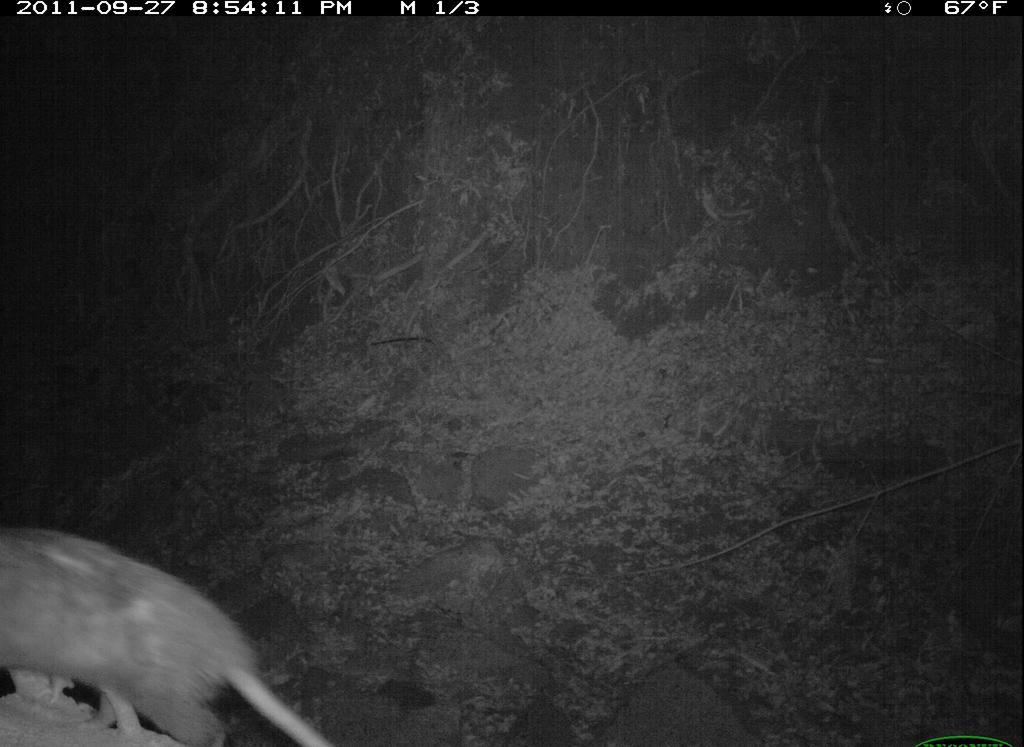opossum: (4, 509, 349, 747)
